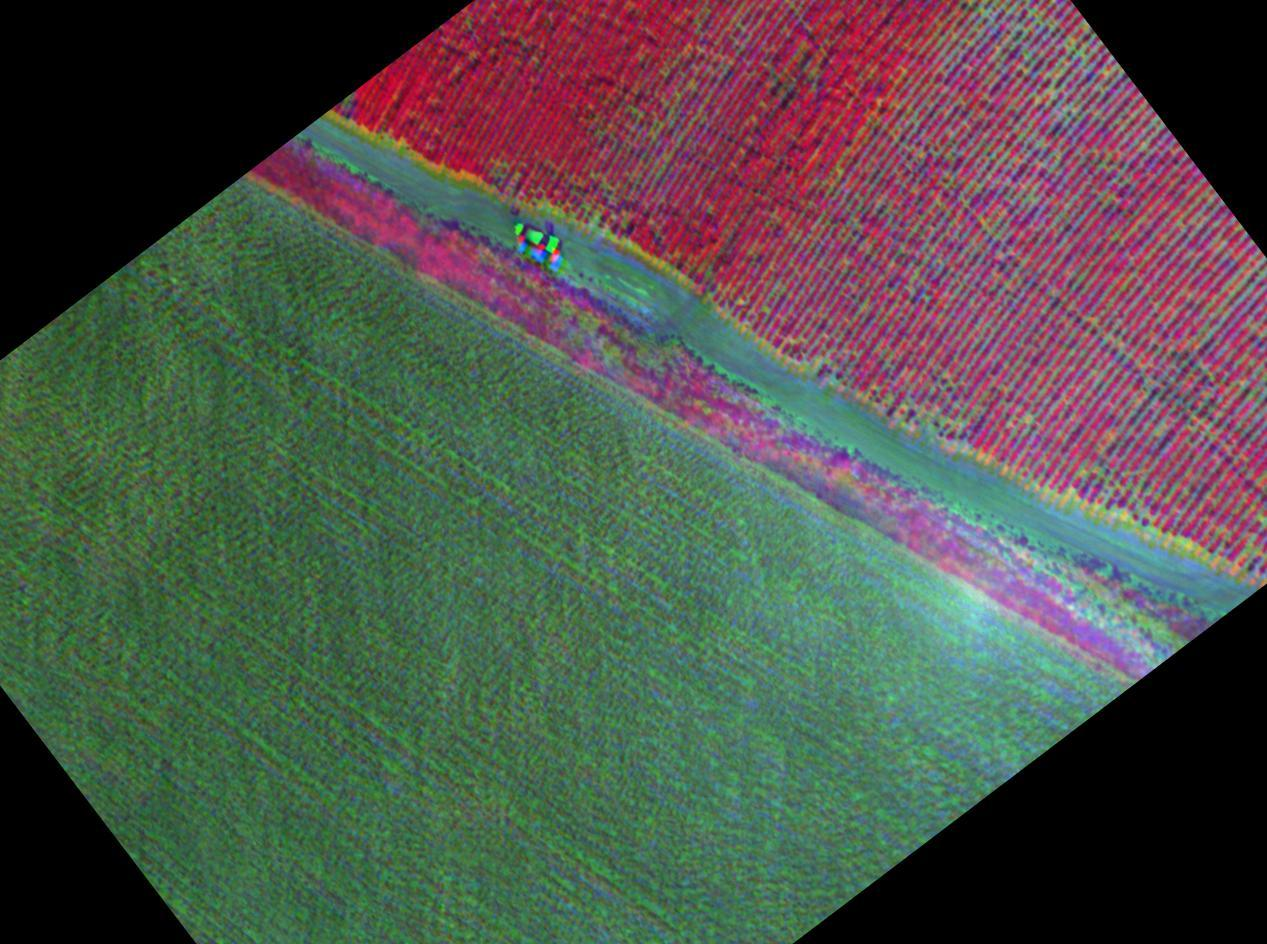dc: (901, 95, 1021, 217), (1063, 440, 1160, 517), (958, 0, 1042, 75), (1208, 270, 1267, 373), (908, 375, 977, 455), (1038, 138, 1094, 226), (1053, 38, 1108, 126)
